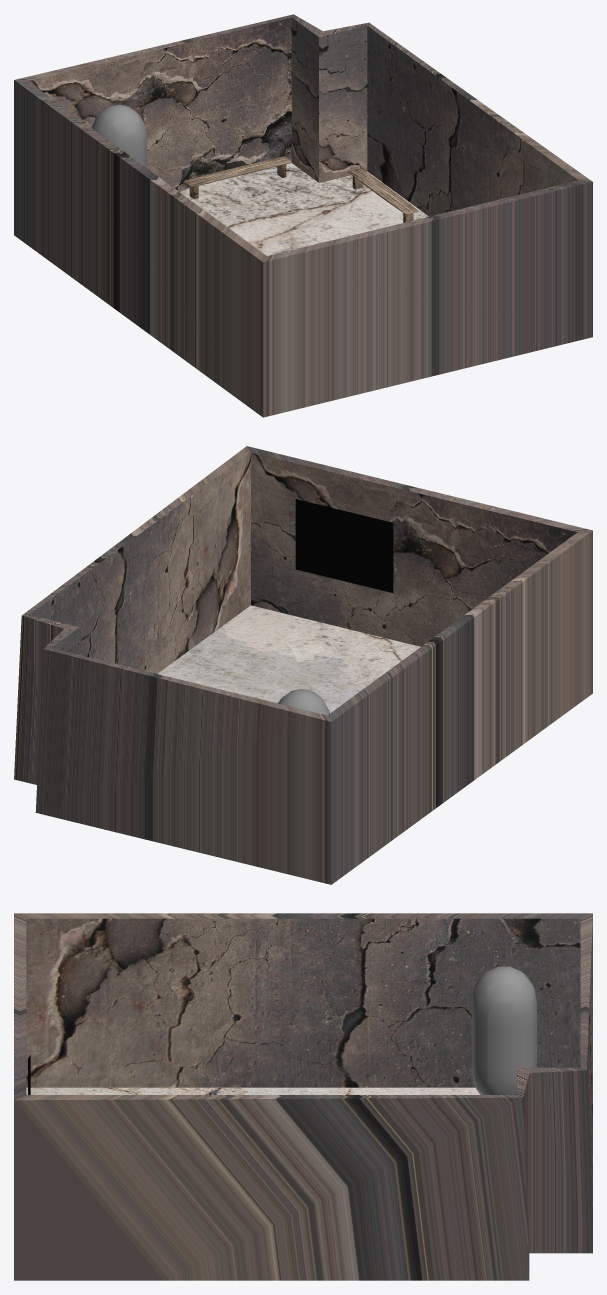
The model's file is nexo.fbx.
The picture shows the model from 3 angles, top to bottom: view 1: azimuth 30°, elevation 25°; view 2: azimuth 150°, elevation 25°; view 3: azimuth 270°, elevation 25°; orthographic projection. The views are drawn at different scales.
Parts seen in each view (by area): view 1: Plane, Mball, Box001, Box001.001; view 2: Plane, Plane.001, Mball; view 3: Plane, Mball.
Part boxes in pixels (box(x1,y1,x2,y2)): Plane: box(14, 14, 592, 417); Mball: box(91, 104, 147, 167); Box001: box(184, 156, 291, 199); Box001.001: box(348, 168, 418, 222); Plane: box(14, 446, 592, 884); Plane.001: box(295, 499, 393, 592); Mball: box(278, 689, 329, 715); Plane: box(14, 913, 592, 1280); Mball: box(471, 966, 536, 1094).
Bounding box in the file's own units: 1073 × 483 × 1404.
6 materials, 4 textured.
